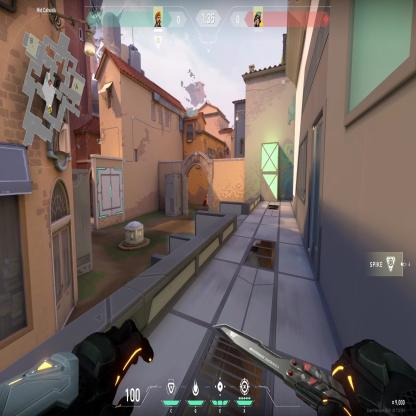enemy: (205, 193, 208, 211)
